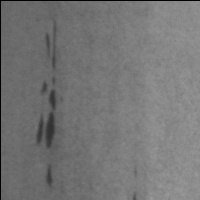inclusion: (34, 14, 60, 112), (32, 110, 61, 152), (42, 161, 58, 190)
